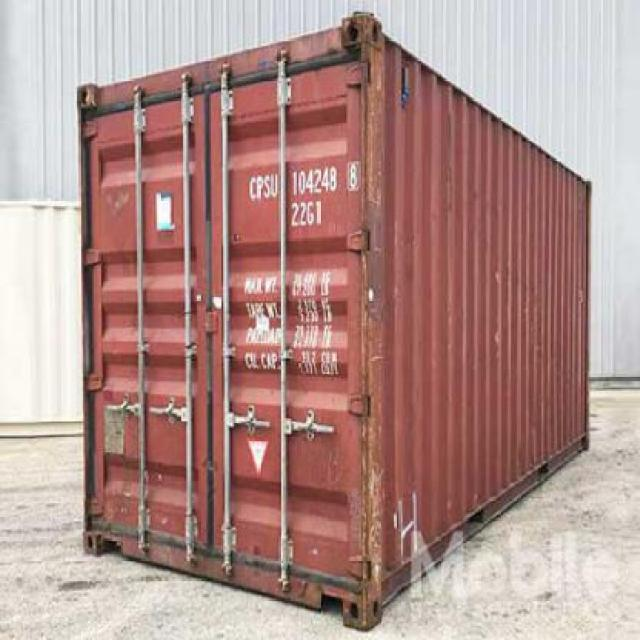ISO: (289, 200, 326, 226)
container_number: (246, 166, 366, 198)
